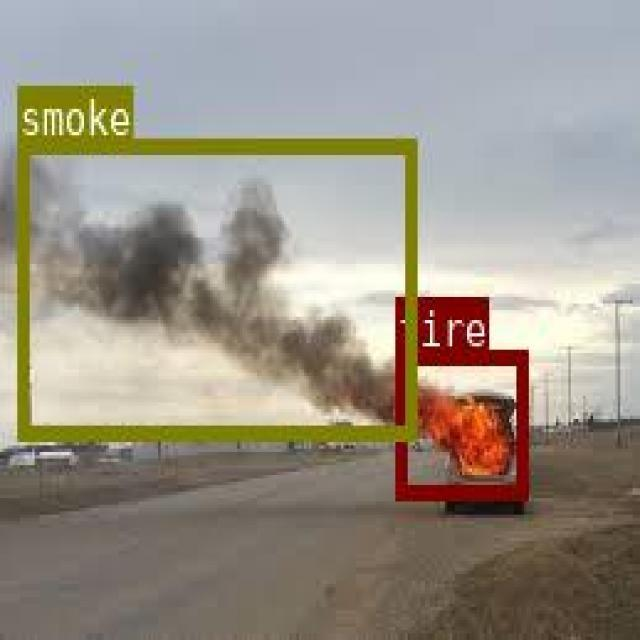fire: (394, 348, 525, 496)
smoke: (16, 136, 413, 436)
